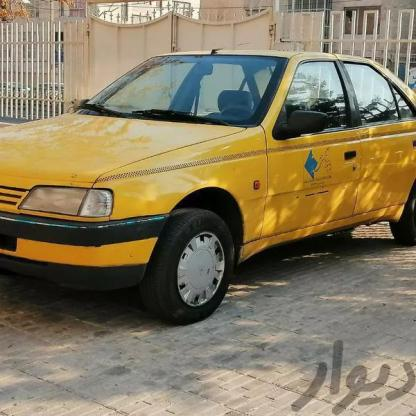Car: (0, 44, 416, 320)
